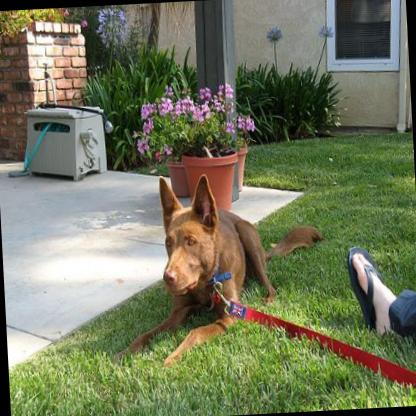kelpie: (96, 165, 330, 376)
